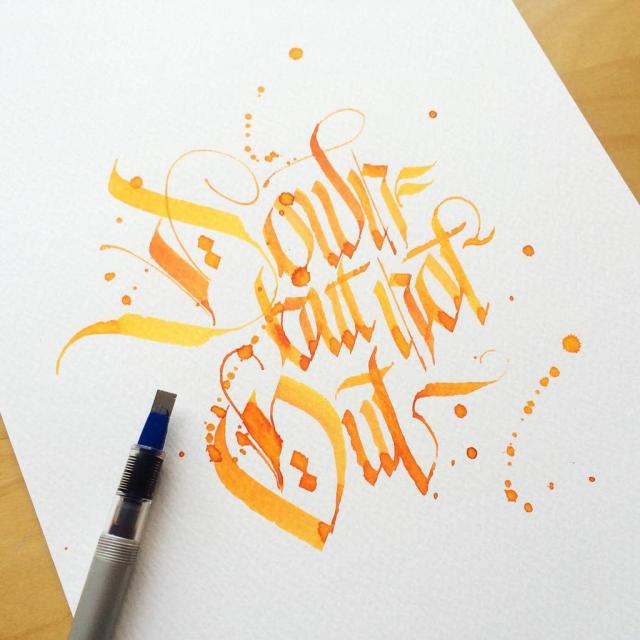pen: (60, 384, 185, 640)
